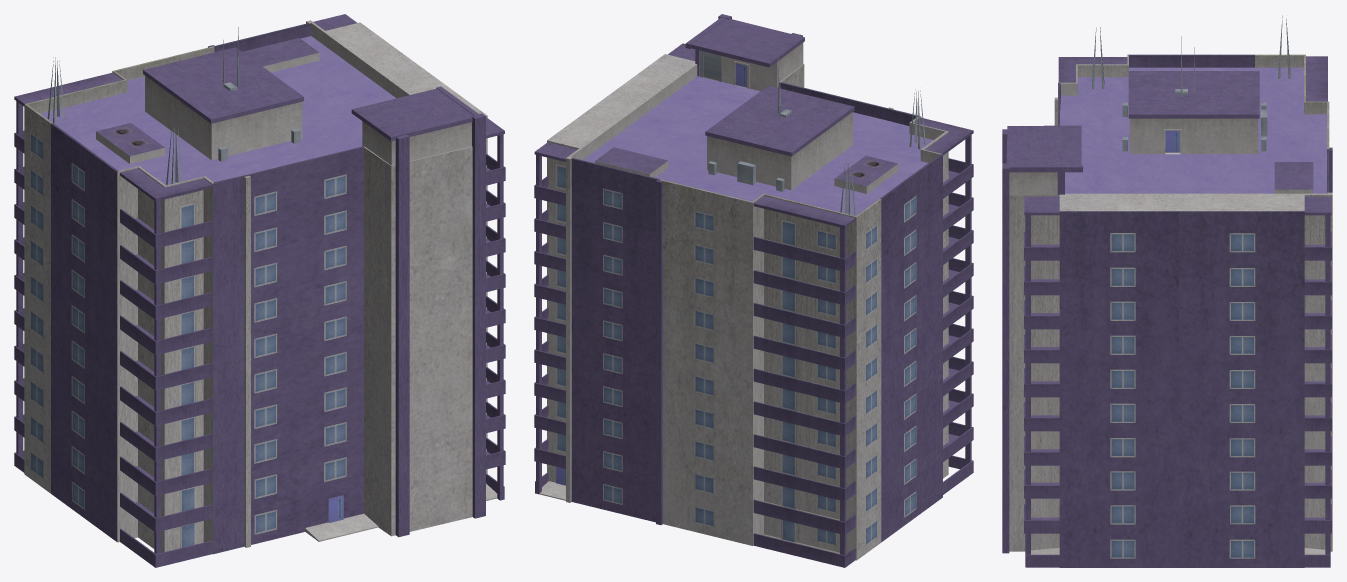
File: ORB_6_Outer_Single_S10_Detail_2.fbx
The picture shows the model from 3 angles, left to right: view 1: azimuth 30°, elevation 25°; view 2: azimuth 150°, elevation 25°; view 3: azimuth 270°, elevation 25°; orthographic projection. The views are drawn at different scales.
Parts seen in each view (by area): view 1: ORB_6_Outer_Single_S10_Detail_2; view 2: ORB_6_Outer_Single_S10_Detail_2; view 3: ORB_6_Outer_Single_S10_Detail_2.
Boxes of the visible parts, <box> form: ORB_6_Outer_Single_S10_Detail_2: <box>14,14,505,567</box>; ORB_6_Outer_Single_S10_Detail_2: <box>534,14,973,567</box>; ORB_6_Outer_Single_S10_Detail_2: <box>1002,15,1332,567</box>.
Bounding box in the file's own units: 2911 × 3822 × 2563.
